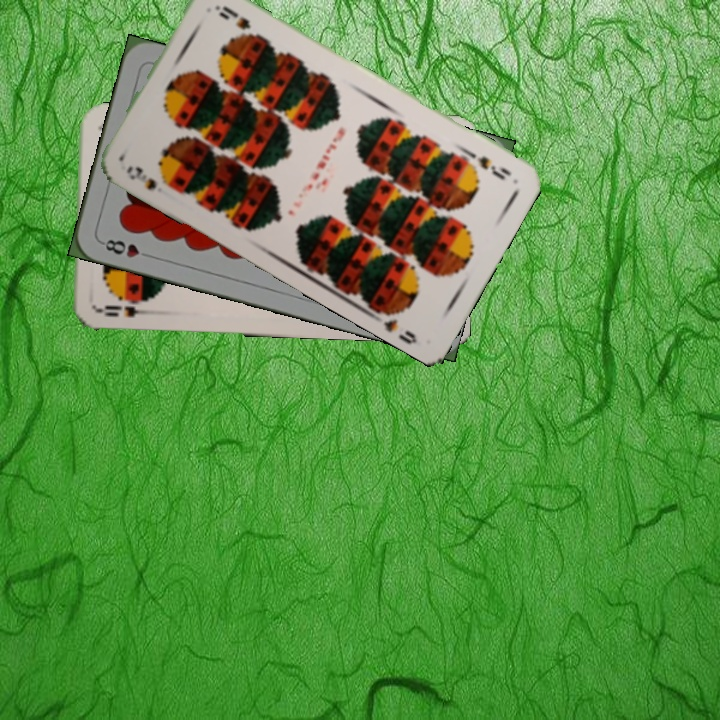H8: (97, 235, 155, 261)
S9: (122, 162, 177, 193), (473, 152, 514, 183)
SO: (95, 301, 154, 320)
